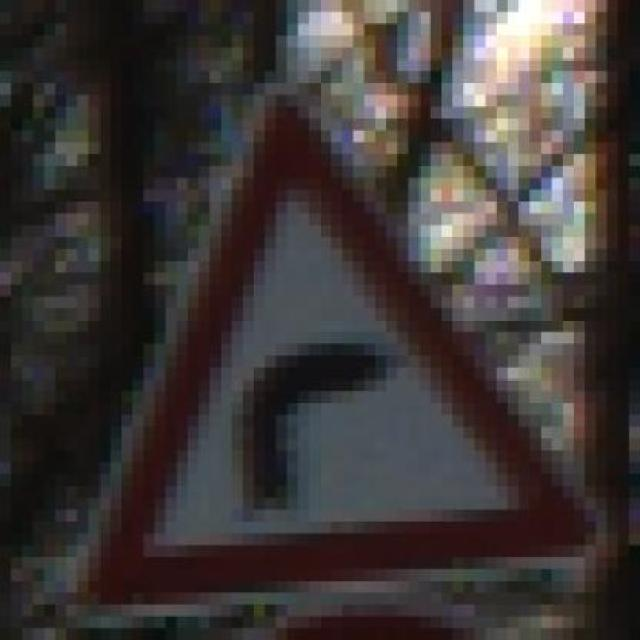Dangerous Rright Curve Ahead: (58, 86, 577, 596)
